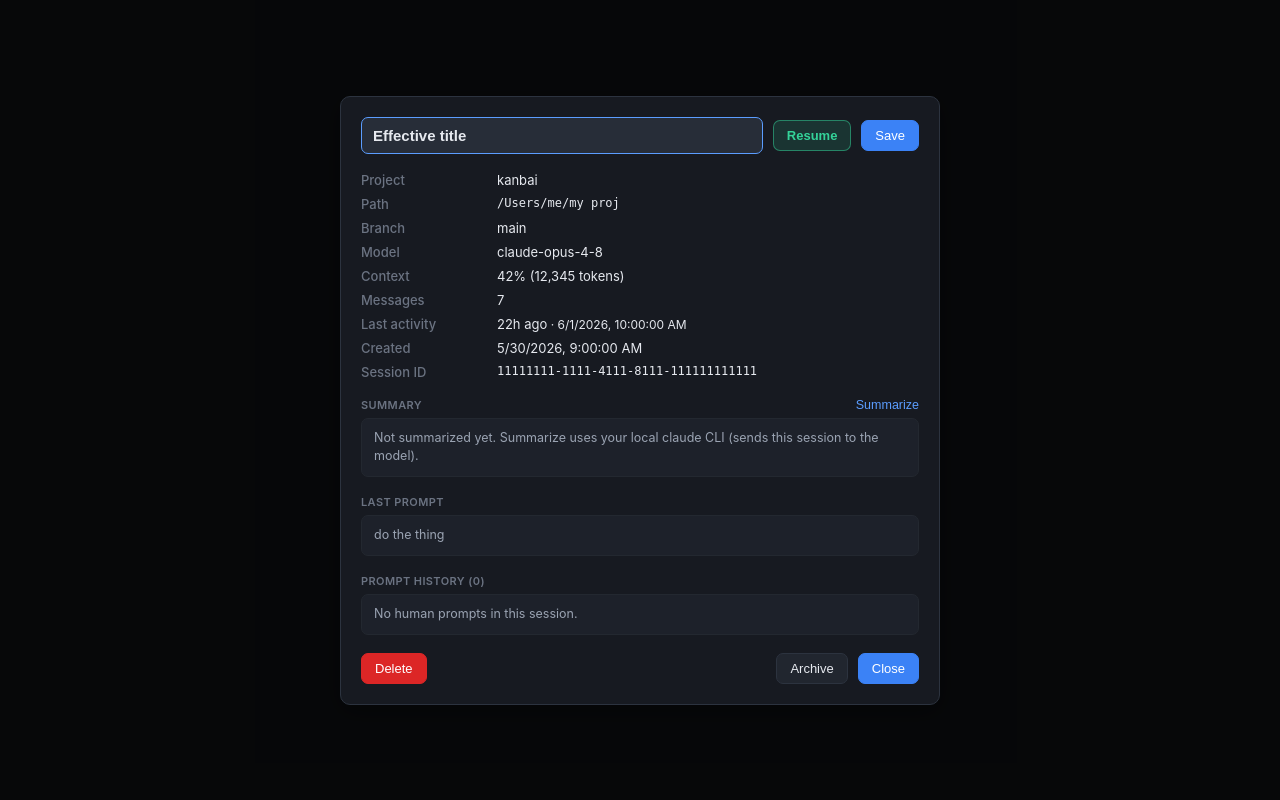
Scenario: CardDetailModal Resume copy › copies the resume command (with cd into a quoted project path) and flashes the toast
Step 1. Click the button "Resume" → {"x": 812, "y": 135}, box x1=773 y1=120 x2=851 y2=150
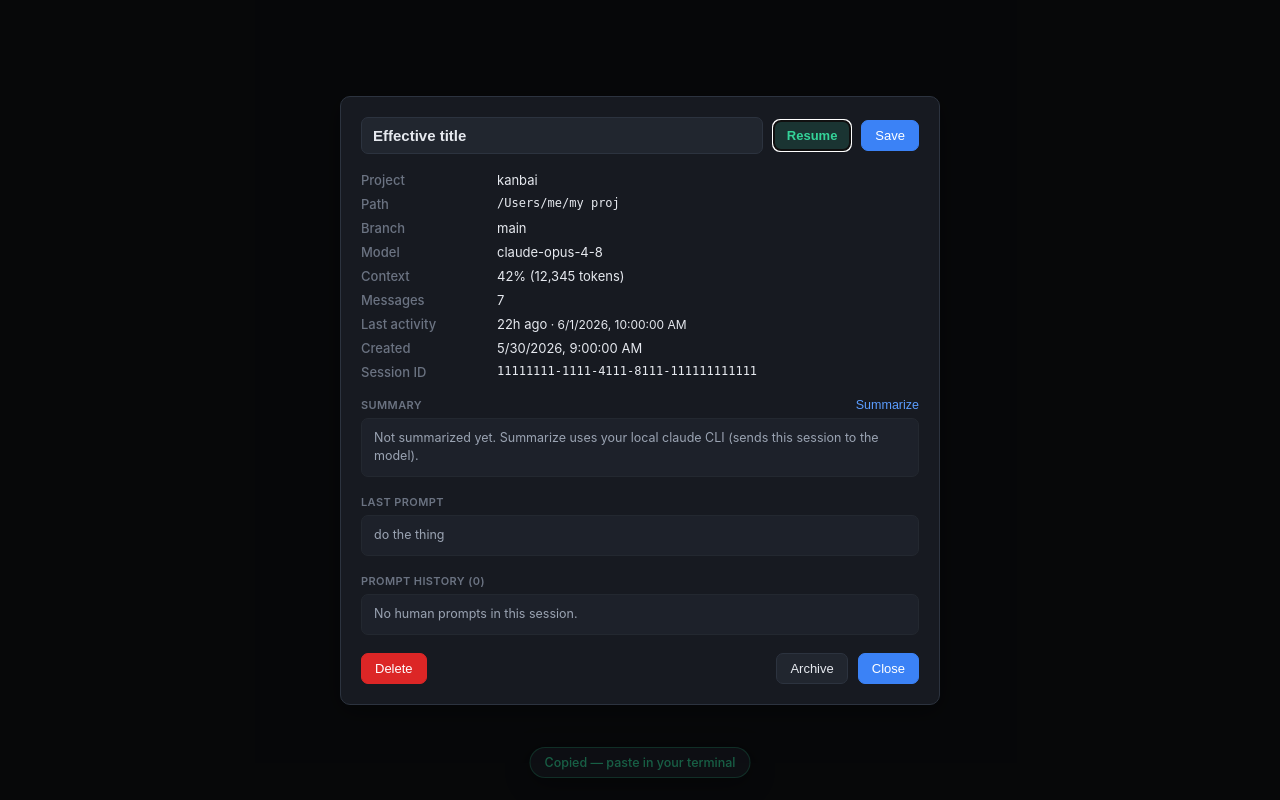
expect the text "Copied — paste in your terminal" is shown: met, box x1=530 y1=747 x2=750 y2=778
